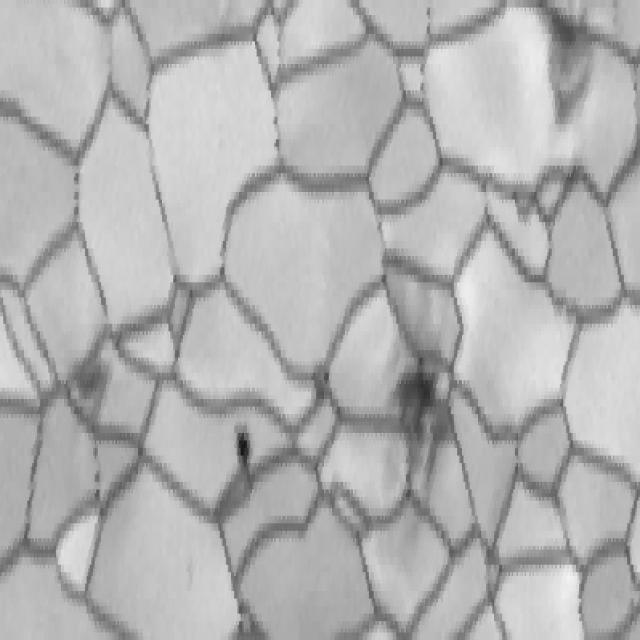good_void: (366, 261, 458, 515), (539, 10, 592, 131), (68, 335, 112, 431), (232, 405, 257, 485), (92, 467, 102, 484), (92, 442, 100, 462), (94, 485, 103, 498)
